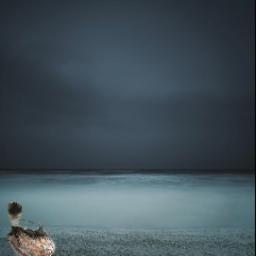Sparrow: (6, 202, 56, 256)
